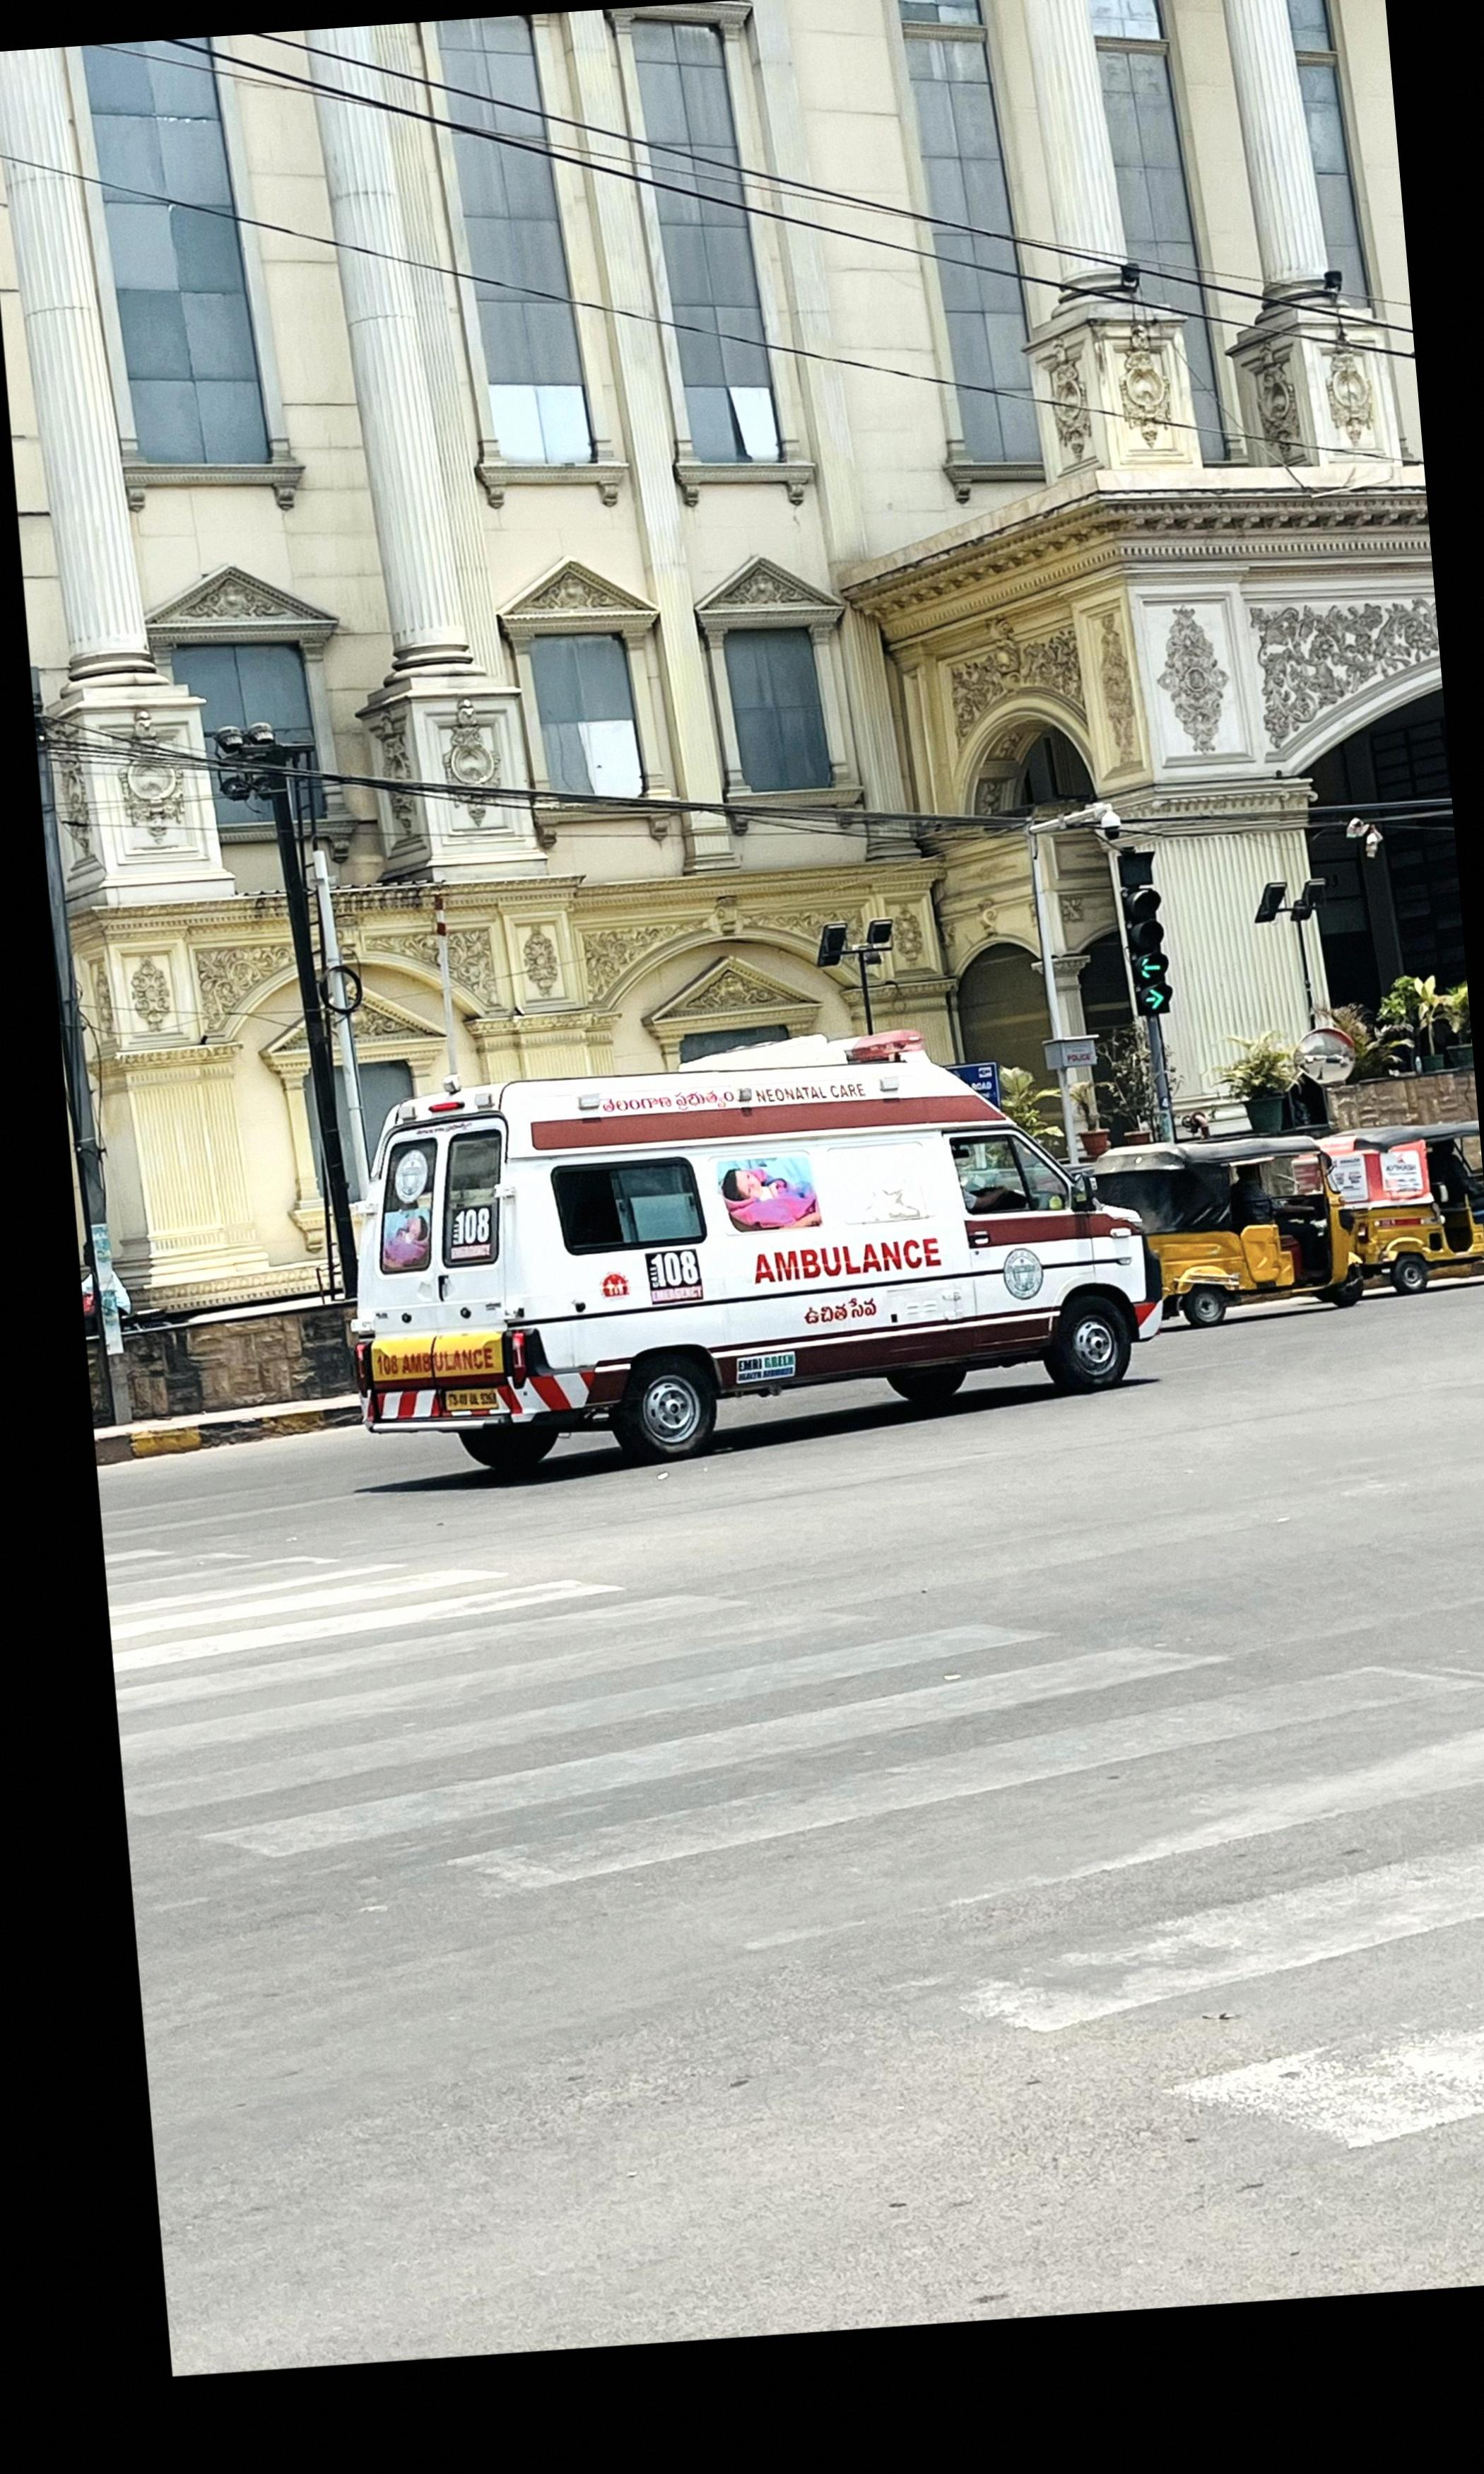ambulance: (346, 1050, 1148, 1479)
